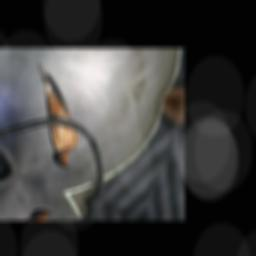Swallow: (2, 61, 104, 174)
